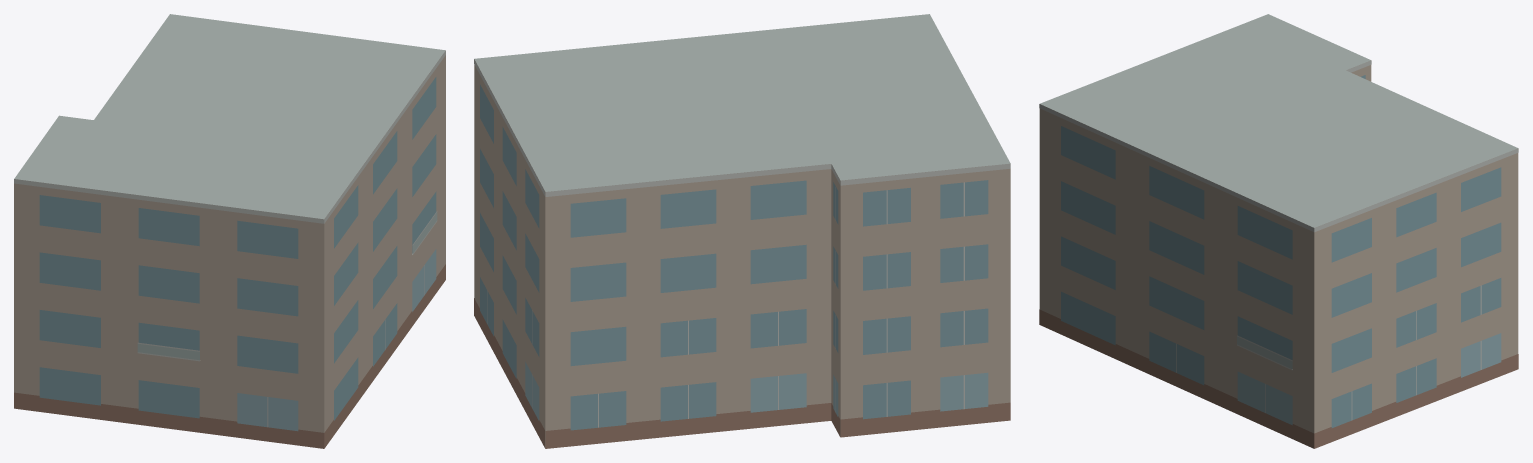
File: survey-upis-32839786.glb
3 renders of one model, left to right at view 1: azimuth 30°, elevation 25°; view 2: azimuth 150°, elevation 25°; view 3: azimuth 270°, elevation 25°, orthographic. The views are drawn at different scales.
Parts seen in each view (by area): view 1: survey-upis-32839786.tmp; view 2: survey-upis-32839786.tmp; view 3: survey-upis-32839786.tmp.
Boxes of the visible parts, bbox=[...] form: survey-upis-32839786.tmp: bbox=[14, 14, 445, 448]; survey-upis-32839786.tmp: bbox=[474, 14, 1010, 448]; survey-upis-32839786.tmp: bbox=[1039, 14, 1518, 448].
Size of the model in its own units: 25.4 by 12.23 by 24.04.
